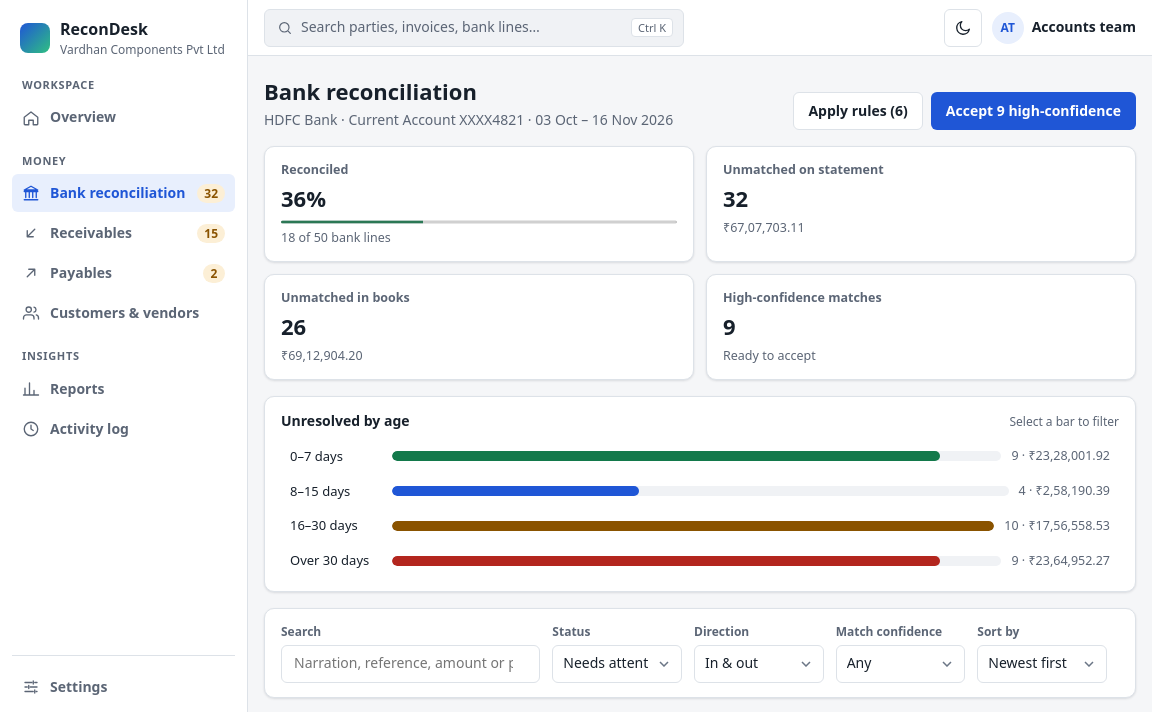
Scenario: Workbench › narrows the list as you search and offers a way out when nothing matches
Type "no such payment" into the search field labelled "Search" at (411, 664), box x1=281 y1=644 x2=540 y2=682
(page scrolled)
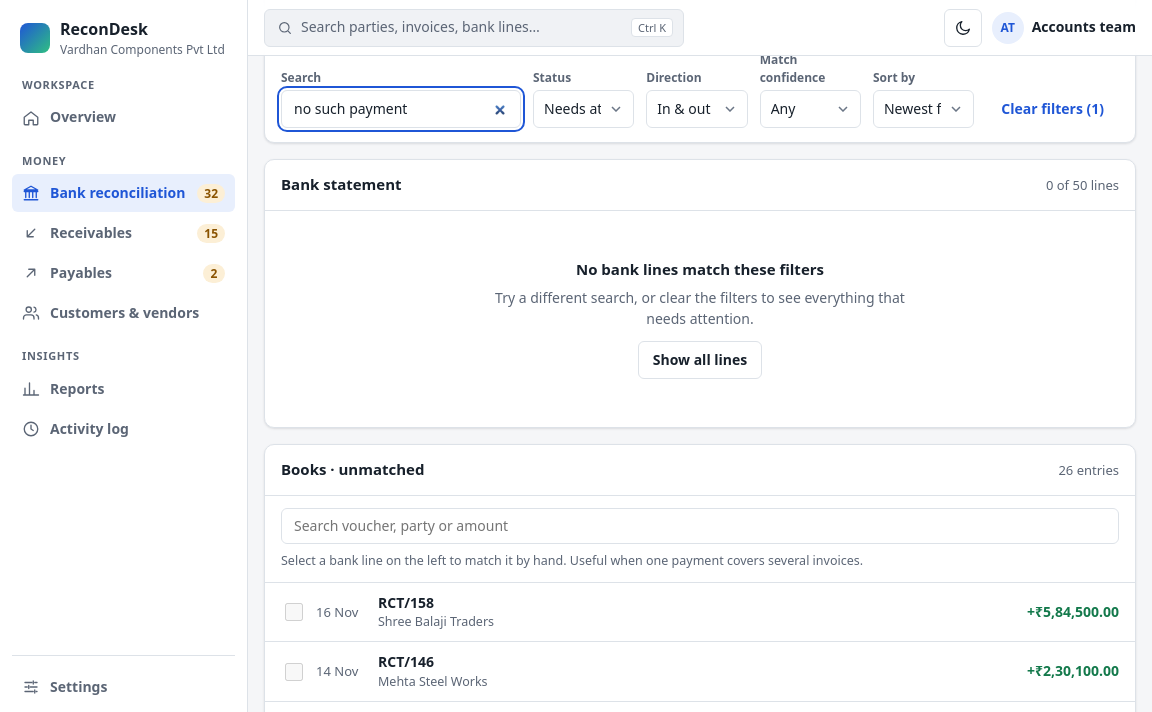
Expected: the text "No bank lines match these filters" is shown, x1=576 y1=259 x2=824 y2=280
Click the button "Show all lines" at (700, 360), box x1=638 y1=341 x2=762 y2=379
(page scrolled)
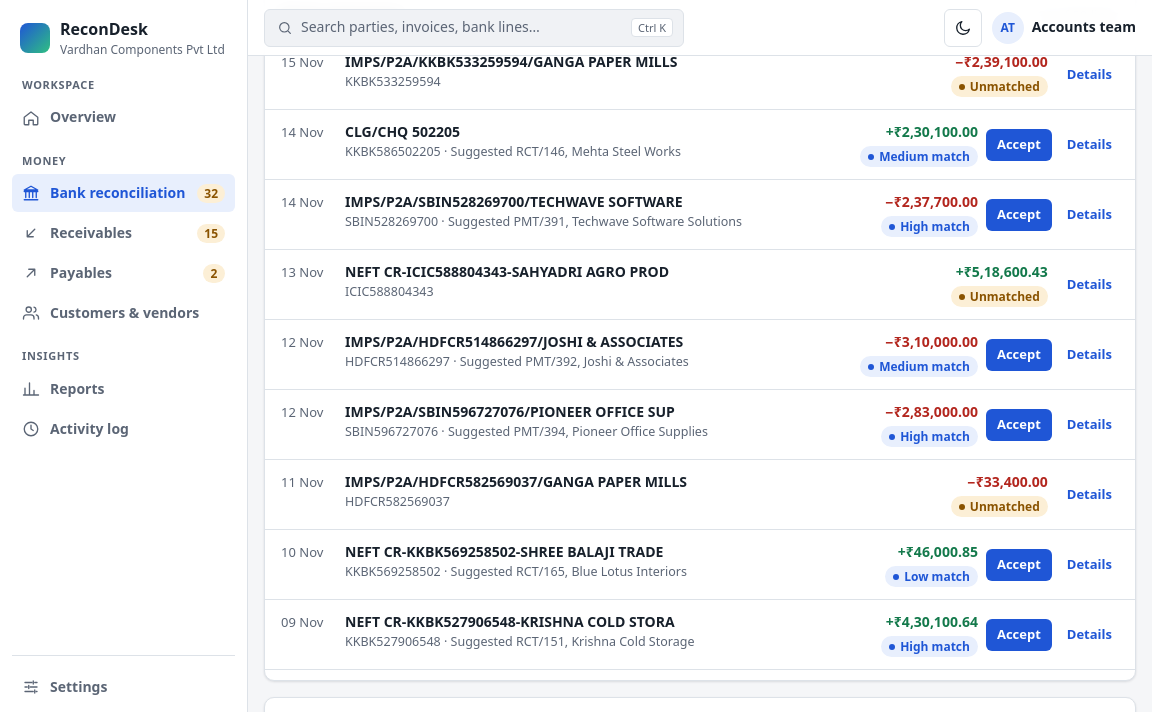
Expected: the list named "Bank lines" is shown
